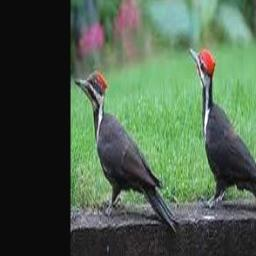Woodpecker: (74, 69, 179, 231), (188, 47, 256, 211)
